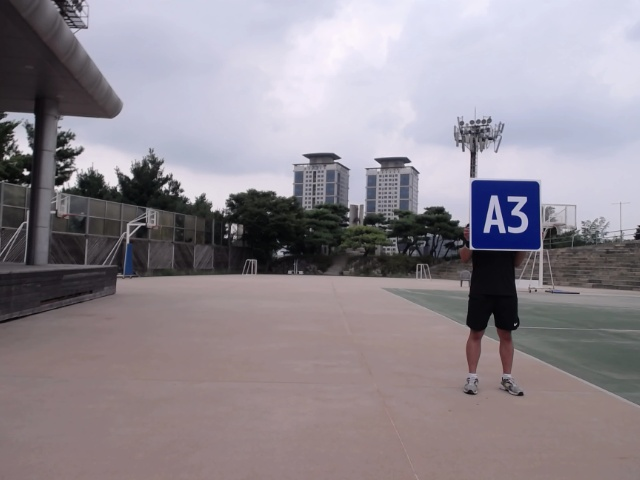delivery_a3: (470, 178, 542, 251)
